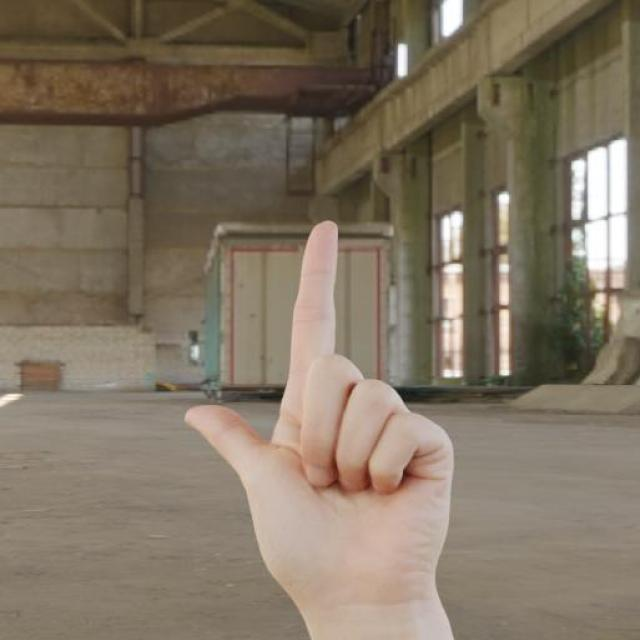L: (178, 215, 458, 606)
